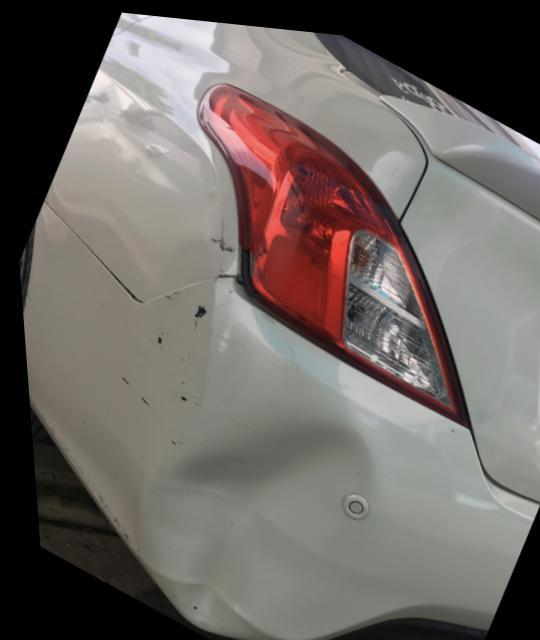dent: (135, 406, 364, 629)
